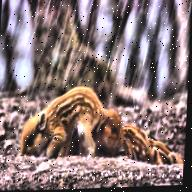boar: (13, 84, 108, 179)
